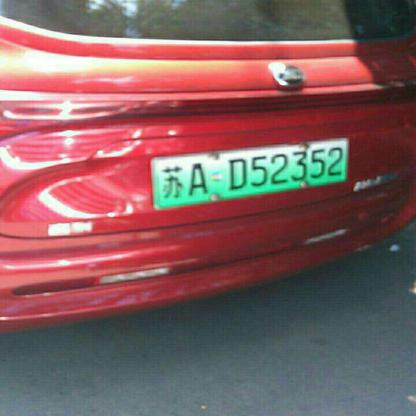lp: (154, 139, 346, 205)
